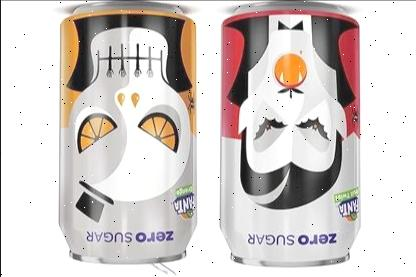Can: (217, 0, 361, 270), (57, 0, 197, 268)
